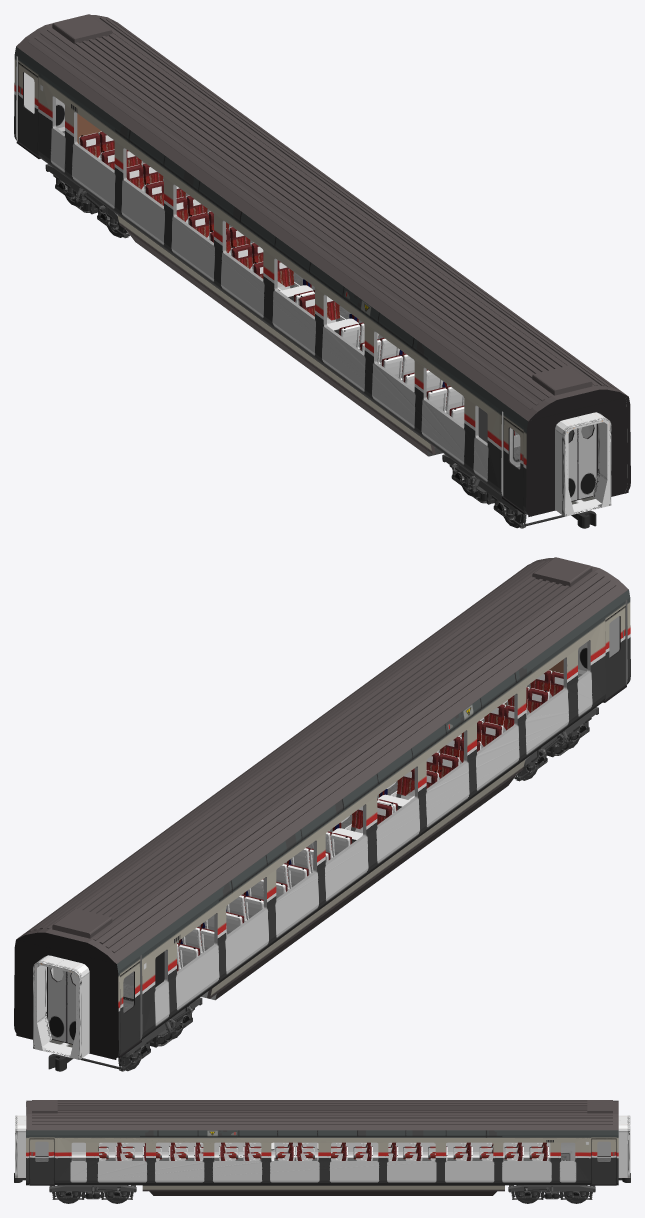
Rendered from srt_brmark3_intercity.obj.
3 views of the same model, one above another, from view 1: azimuth 30°, elevation 25°; view 2: azimuth 150°, elevation 25°; view 3: azimuth 270°, elevation 25° (orthographic). The views are drawn at different scales.
Visible parts, largest first — view 1: sidenew, jibung, jibungbong, chairs, back, sideunder, DT71, mak, backdoor, door_RF, door_RB, wall; view 2: sidenew, jibung, jibungbong, chairs, back, sideunder, DT71, mak, backdoor, door_RB, door_RF, wall; view 3: sidenew, jibungbong, jibung, chairs, sideunder, DT71, inside, mak, door_LF, door_LB, badak, wall (+2 smaller).
Boxes of the visible parts, x1,y1,x2,y2 form: sidenew: (14, 22, 630, 516); jibung: (16, 14, 626, 420); jibungbong: (28, 17, 616, 409); chairs: (78, 131, 514, 435); back: (528, 389, 628, 516); sideunder: (117, 215, 435, 456); DT71: (45, 164, 596, 528); mak: (555, 412, 611, 516); backdoor: (56, 98, 596, 500); door_RF: (503, 412, 524, 511); door_RB: (18, 57, 38, 156); wall: (77, 113, 573, 466); sidenew: (14, 565, 630, 1057); jibung: (17, 557, 628, 963); jibungbong: (28, 560, 616, 952); chairs: (177, 670, 563, 971); back: (16, 932, 116, 1059); sideunder: (207, 759, 524, 999); DT71: (48, 707, 598, 1071); mak: (33, 955, 89, 1059); backdoor: (48, 642, 587, 1043); door_RB: (119, 956, 140, 1055); door_RF: (605, 601, 625, 699); wall: (53, 659, 563, 1006); sidenew: (26, 1102, 618, 1185); jibungbong: (32, 1100, 612, 1124); jibung: (26, 1100, 618, 1130); chairs: (99, 1142, 548, 1160); sideunder: (142, 1185, 504, 1195); DT71: (14, 1173, 630, 1203); inside: (26, 1103, 610, 1157); mak: (15, 1115, 630, 1177); door_LF: (29, 1135, 54, 1184); door_LB: (591, 1135, 616, 1184); badak: (35, 1158, 610, 1161); wall: (561, 1142, 575, 1160).
Size of the model in its own units: 2.74 by 3.91 by 24.1.
Materials: 20 (20 with a texture image).
